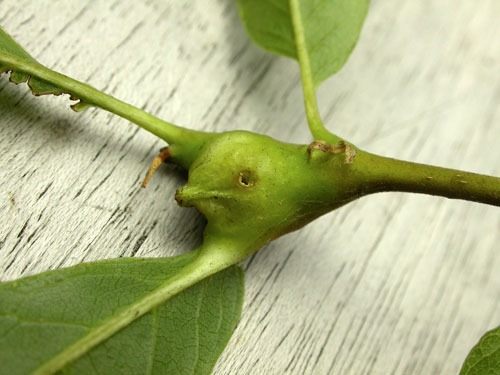galarisi: (117, 99, 377, 281)
